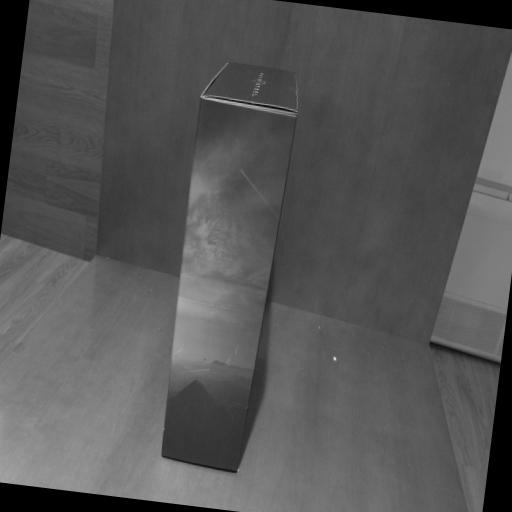superman: (156, 58, 310, 472)
